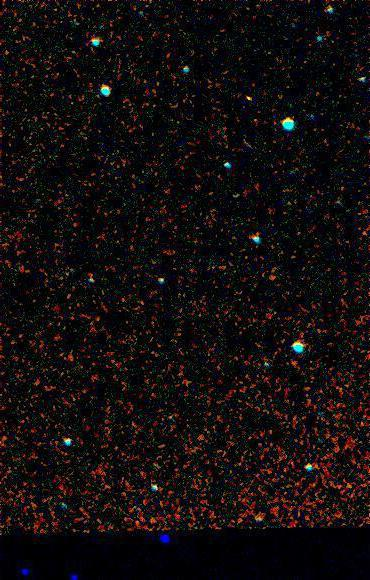star: (233, 85, 263, 115)
